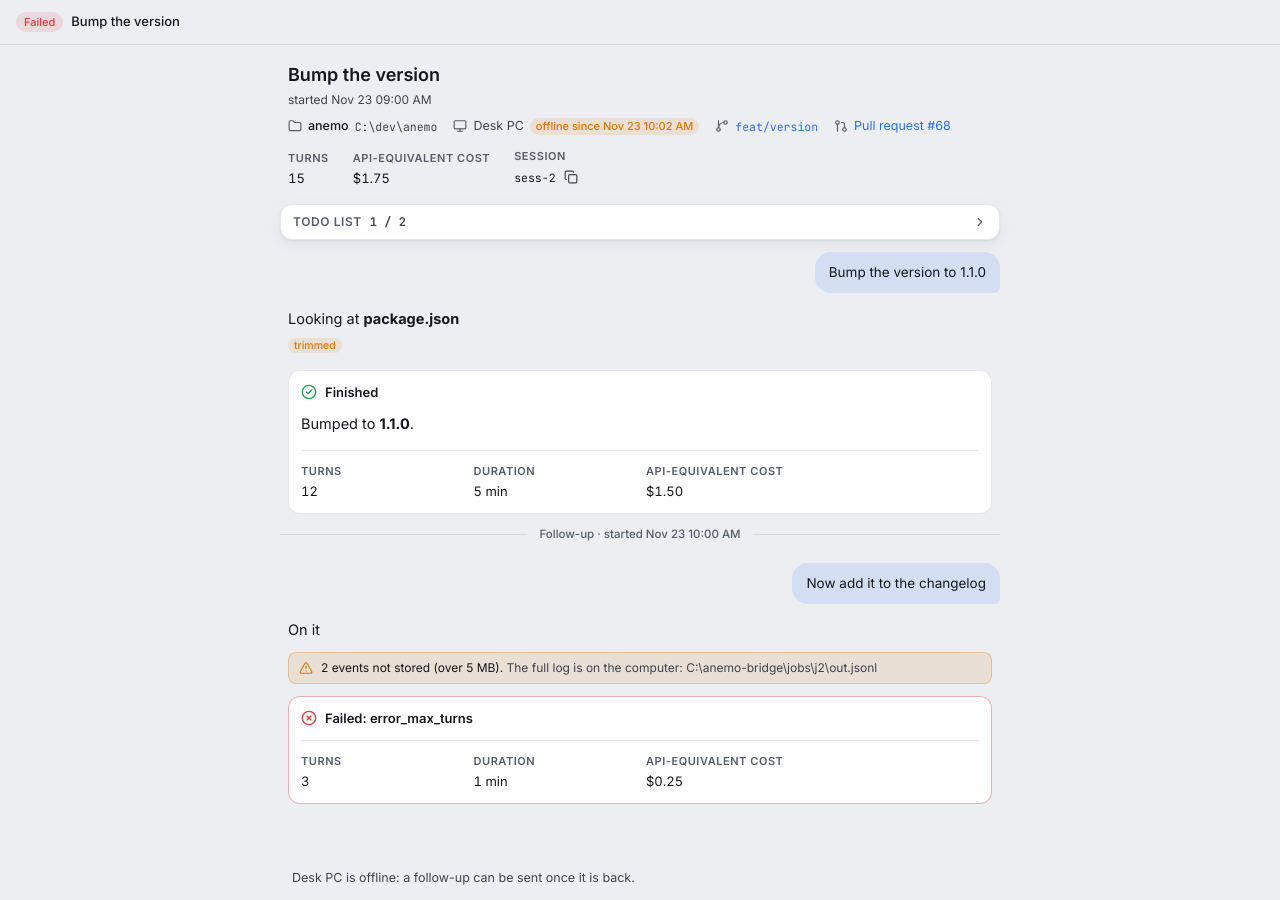
it: a finished thread › folds the todo list once the job has ended
Step 1. Click the button "Todo list 1 / 2" → (327, 222), box [293,209,987,235]
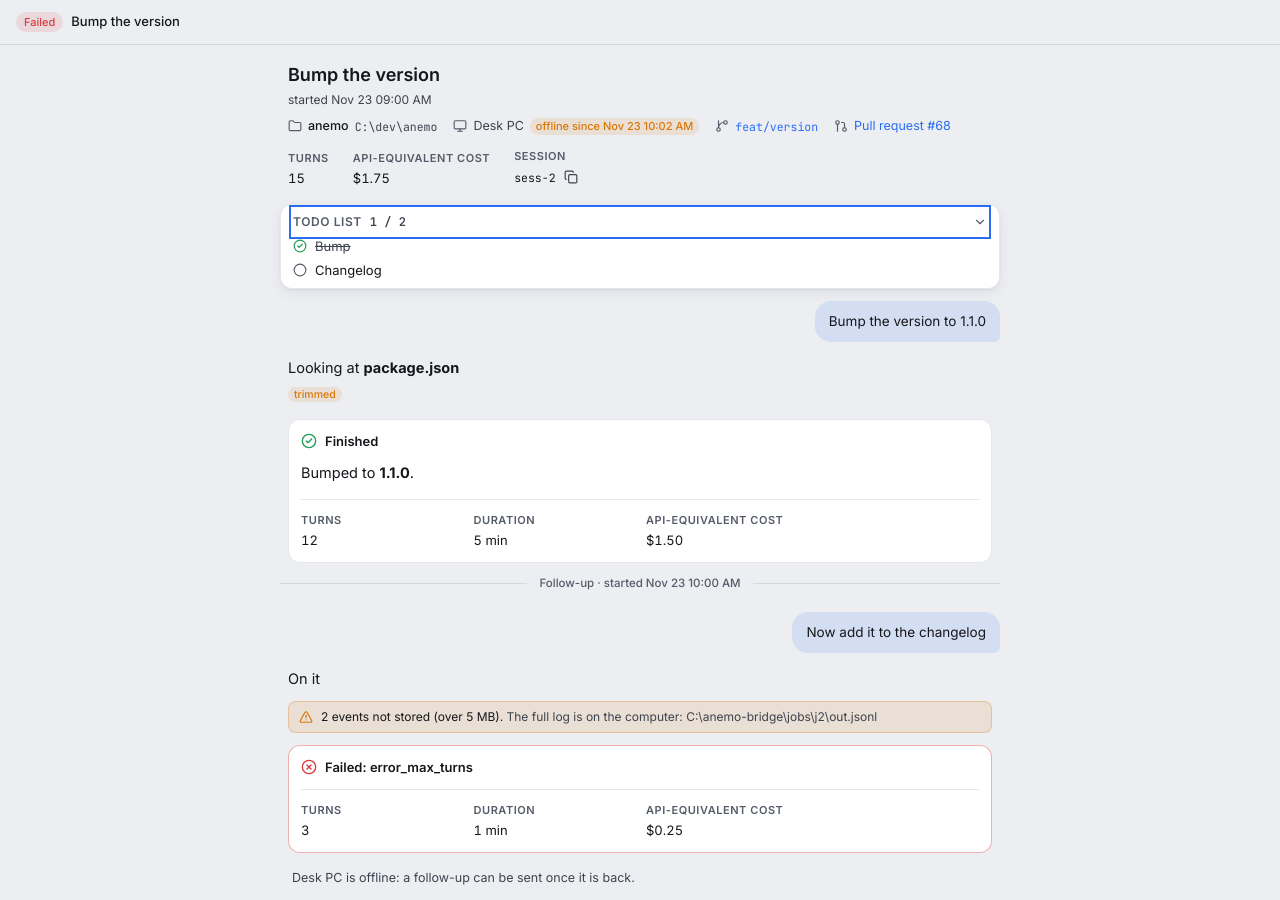
Result: the text "Changelog" is shown at [315,261,382,280]
